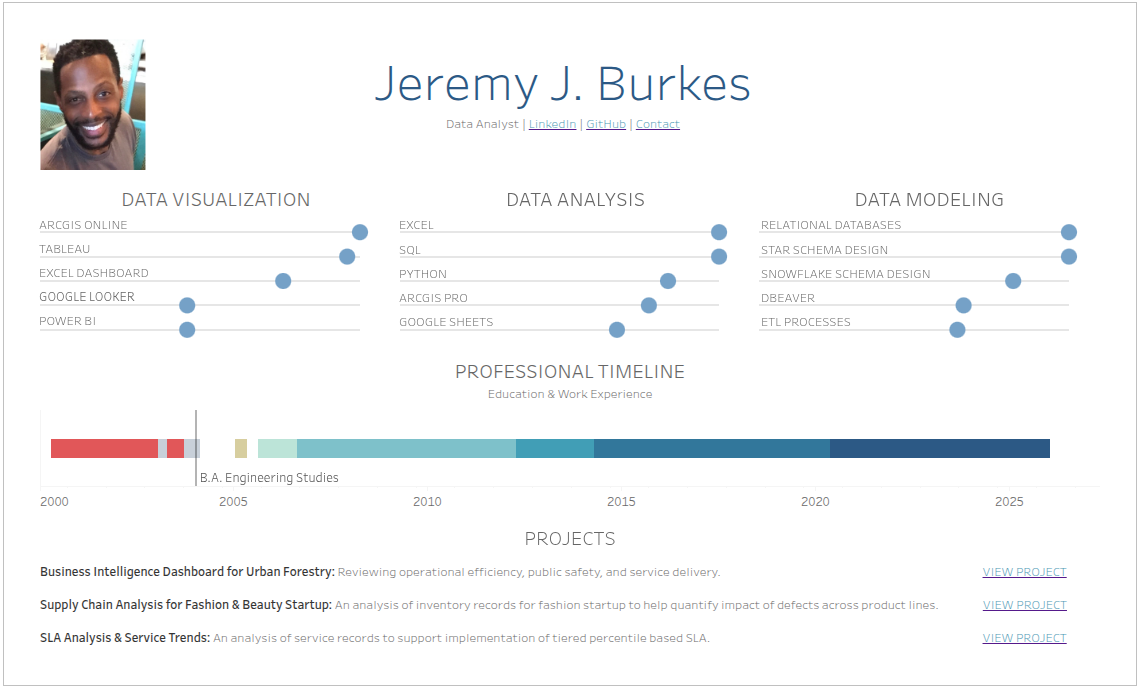

Layout of this report page (visuals, bound fields, positions):
{"tool":"tableau","page":{"name":"Interactive Resume","canvas":[1150,700],"ordinal":0},"visuals":[{"type":"image","param":"Image/Profile Pic 1.jpg","box":[40.8,40.9,114.3,139.4]},{"type":"text","box":[155.1,40.9,826.2,107.4]},{"type":"worksheet","title":"DATA VISUALIZATION","mark":"Automatic","rows":["Skill Name"],"cols":["Calculation_0014484351770636","Skill Level"],"box":[40.8,180.3,359.7,171.3]},{"type":"worksheet","title":"DATA ANALYSIS","mark":"Automatic","rows":["Skill Name"],"cols":["Calculation_0014552722018313","Skill Level"],"box":[400.5,180.3,359.7,171.3]},{"type":"worksheet","title":"DATA MODELING","mark":"Automatic","rows":["Skill Name"],"cols":["Calculation_0014552722018313","Skill Level"],"box":[760.2,180.3,348.8,171.3]},{"type":"text","box":[40,217,147,25]},{"type":"text","box":[400,217,148,25]},{"type":"text","box":[762,217,189,25]},{"type":"text","box":[40,242,147,24]},{"type":"text","box":[400,242,148,25]},{"type":"text","box":[762,242,189,25]},{"type":"text","box":[40,266,147,24]},{"type":"text","box":[400,267,148,24]},{"type":"text","box":[762,267,189,24]},{"type":"text","box":[40,290,147,24]},{"type":"text","box":[400,291,148,24]},{"type":"text","box":[762,291,189,24]},{"type":"text","box":[40,314,147,24]},{"type":"text","box":[400,315,148,24]},{"type":"text","box":[762,315,189,24]},{"type":"worksheet","title":"PROFESSIONAL TIMELINE","mark":"GanttBar","cols":["Start Date"],"box":[40.8,351.6,1068.3,174.8]},{"type":"text","box":[40.8,526.3,1068.3,33.6]},{"type":"text","box":[41,560,1036,33]},{"type":"text","box":[41,593,1036,33]},{"type":"text","box":[41,626,1036,33]}]}

Visuals, with their boxes in screenshot pixels (x1, y1, x2, y2), scaled from the page's 1150x700 canvas onto the 1140x689 screenshot:
image: x1=40, y1=40, x2=154, y2=177
text: x1=154, y1=40, x2=973, y2=146
"DATA VISUALIZATION" worksheet: x1=40, y1=177, x2=397, y2=346
"DATA ANALYSIS" worksheet: x1=397, y1=177, x2=754, y2=346
"DATA MODELING" worksheet: x1=754, y1=177, x2=1099, y2=346
text: x1=40, y1=214, x2=185, y2=238
text: x1=397, y1=214, x2=543, y2=238
text: x1=755, y1=214, x2=943, y2=238
text: x1=40, y1=238, x2=185, y2=262
text: x1=397, y1=238, x2=543, y2=263
text: x1=755, y1=238, x2=943, y2=263
text: x1=40, y1=262, x2=185, y2=285
text: x1=397, y1=263, x2=543, y2=286
text: x1=755, y1=263, x2=943, y2=286
text: x1=40, y1=285, x2=185, y2=309
text: x1=397, y1=286, x2=543, y2=310
text: x1=755, y1=286, x2=943, y2=310
text: x1=40, y1=309, x2=185, y2=333
text: x1=397, y1=310, x2=543, y2=334
text: x1=755, y1=310, x2=943, y2=334
"PROFESSIONAL TIMELINE" worksheet (GanttBar marks): x1=40, y1=346, x2=1099, y2=518
text: x1=40, y1=518, x2=1099, y2=551
text: x1=41, y1=551, x2=1068, y2=584
text: x1=41, y1=584, x2=1068, y2=616
text: x1=41, y1=616, x2=1068, y2=649
